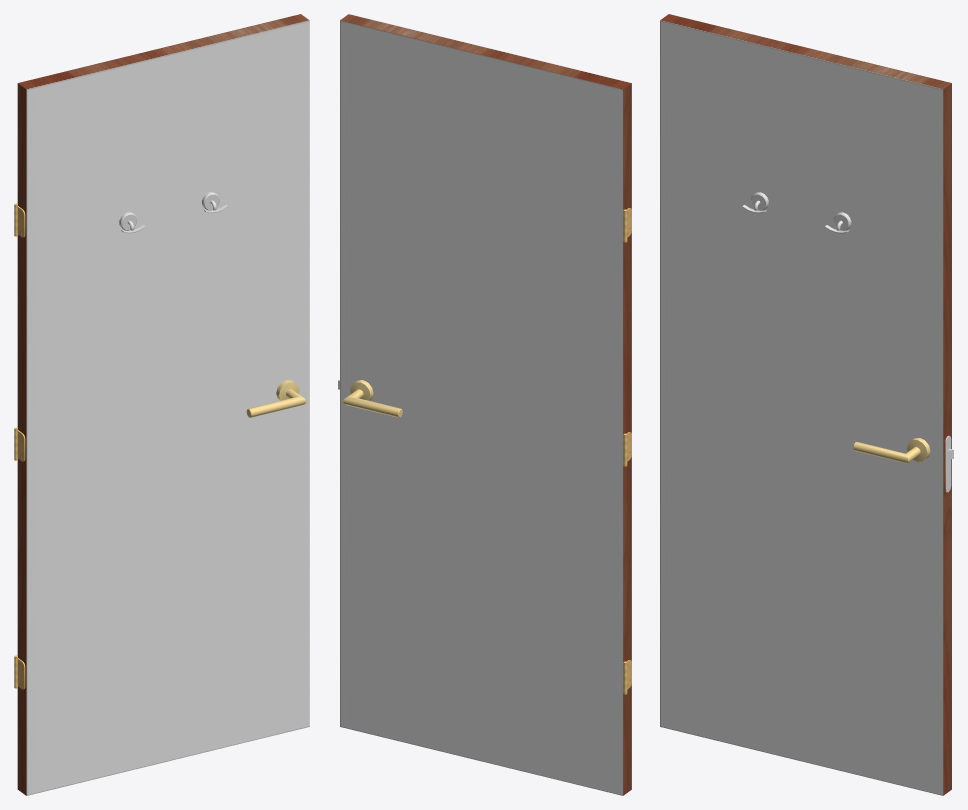
The model's file is DoorBathroom.fbx.
The picture shows the model from 3 angles, left to right: view 1: azimuth 30°, elevation 25°; view 2: azimuth 150°, elevation 25°; view 3: azimuth 330°, elevation 25°; orthographic projection.
Visible parts, largest first — view 1: BtR_Door, BtR_Door.001; view 2: BtR_Door, BtR_Door.001; view 3: BtR_Door, BtR_Door.001.
Boxes of the visible parts, <box> form: BtR_Door: <box>14,14,309,795</box>; BtR_Door.001: <box>246,380,306,417</box>; BtR_Door: <box>338,14,631,795</box>; BtR_Door.001: <box>343,380,402,417</box>; BtR_Door: <box>660,14,953,795</box>; BtR_Door.001: <box>853,438,930,463</box>.
Bounding box in the file's own units: 0.903 × 2.09 × 0.2176.
